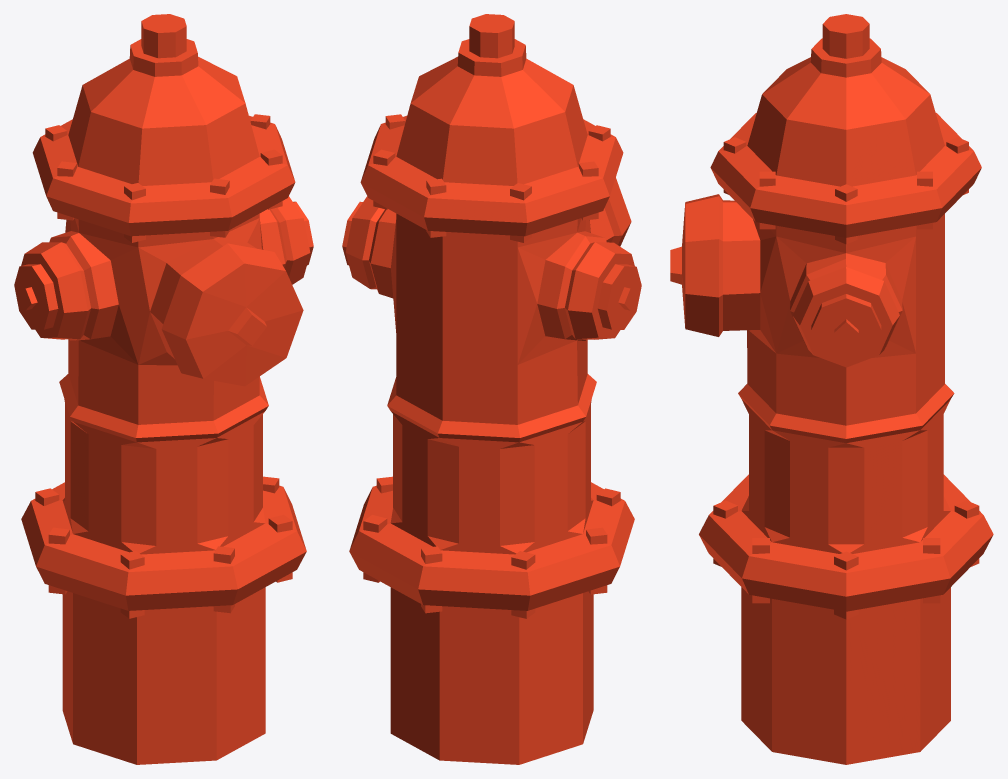
Rendered from SM_Hydrant_City.fbx.
The picture shows the model from 3 angles, left to right: view 1: azimuth 30°, elevation 25°; view 2: azimuth 150°, elevation 25°; view 3: azimuth 270°, elevation 25°; orthographic projection.
Parts seen in each view (by area): view 1: SM_Hydrant_City; view 2: SM_Hydrant_City; view 3: SM_Hydrant_City.
Boxes of the visible parts, x1,y1,x2,y2 form: SM_Hydrant_City: (14, 14, 313, 764); SM_Hydrant_City: (342, 14, 641, 764); SM_Hydrant_City: (670, 14, 993, 764).
Bounding box in the file's own units: 0.4072 × 0.9815 × 0.4129.
